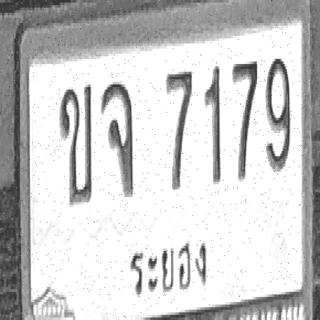A02: (59, 83, 92, 203)
A08: (101, 81, 133, 196)
N01: (204, 64, 221, 184)
N07: (166, 69, 192, 189), (232, 59, 257, 179)
N09: (266, 55, 290, 170)
P53: (126, 226, 210, 298)
